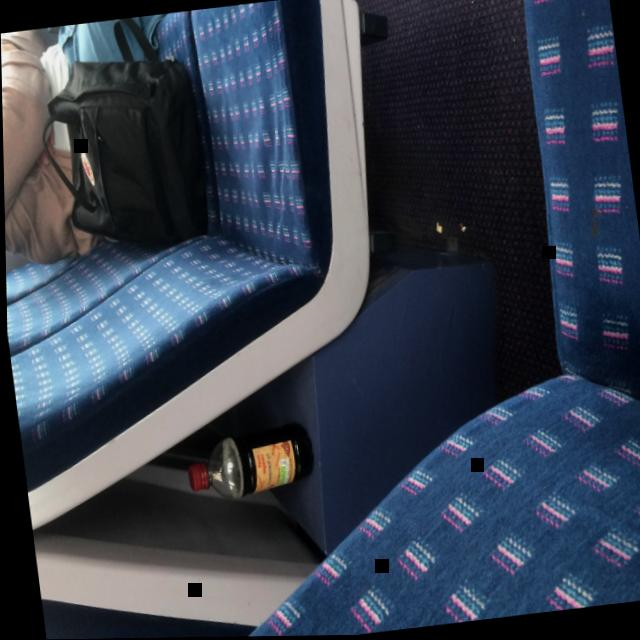Other plastic container: (185, 422, 311, 499)
Plastic bottle cap: (185, 463, 201, 490)
